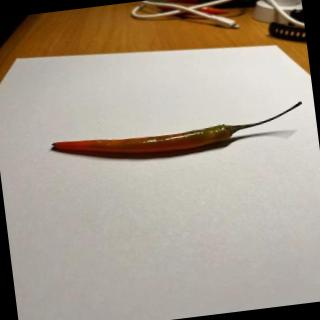Cabai Merah: (51, 102, 308, 168)
